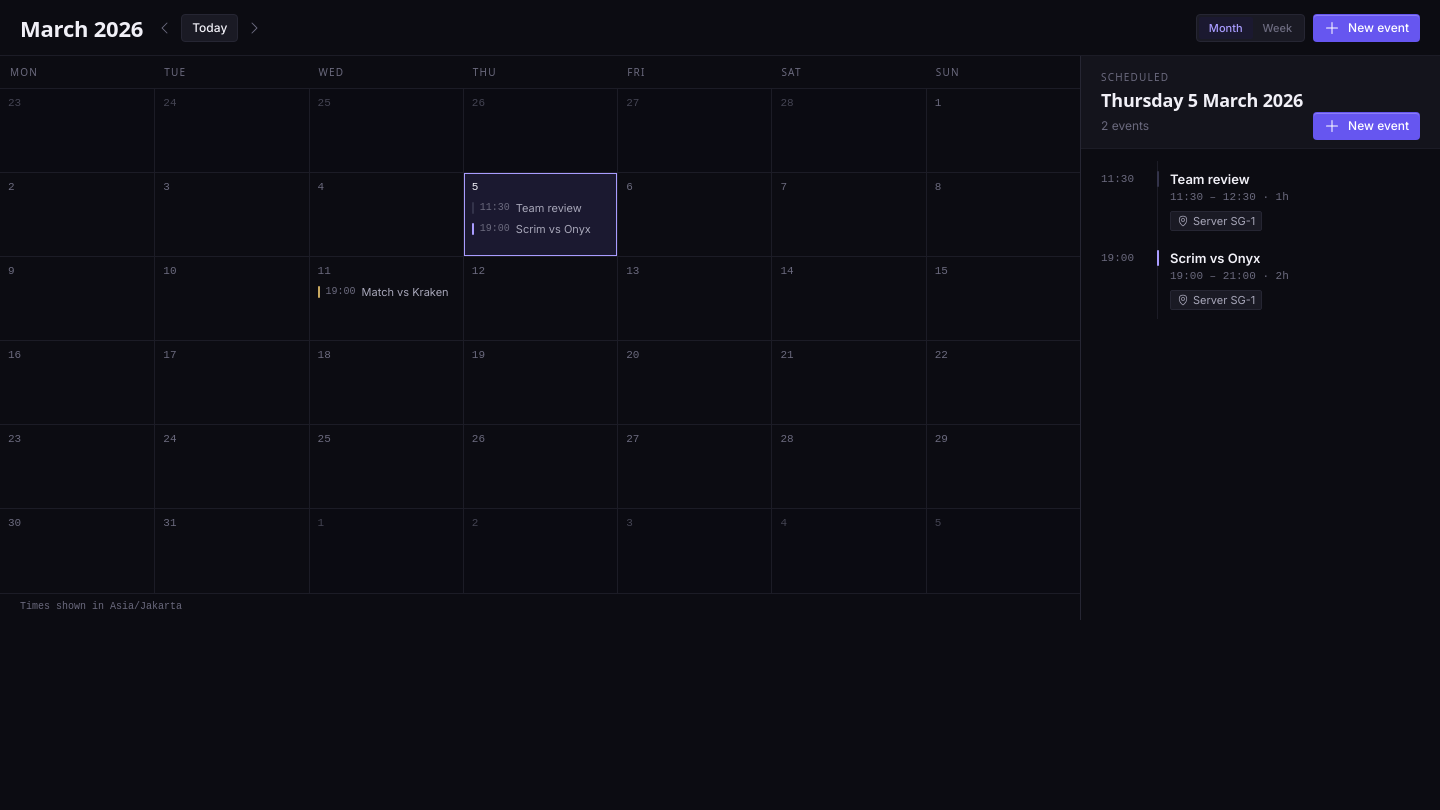
it: an event › opens in the panel, deeper, with the way back
This screenshot has width=1440, height=810.
Click the button "Scrim vs Onyx 19:00 – 21:00 · 2h Server SG-1" at [1288, 280], box [1157, 240, 1420, 319]
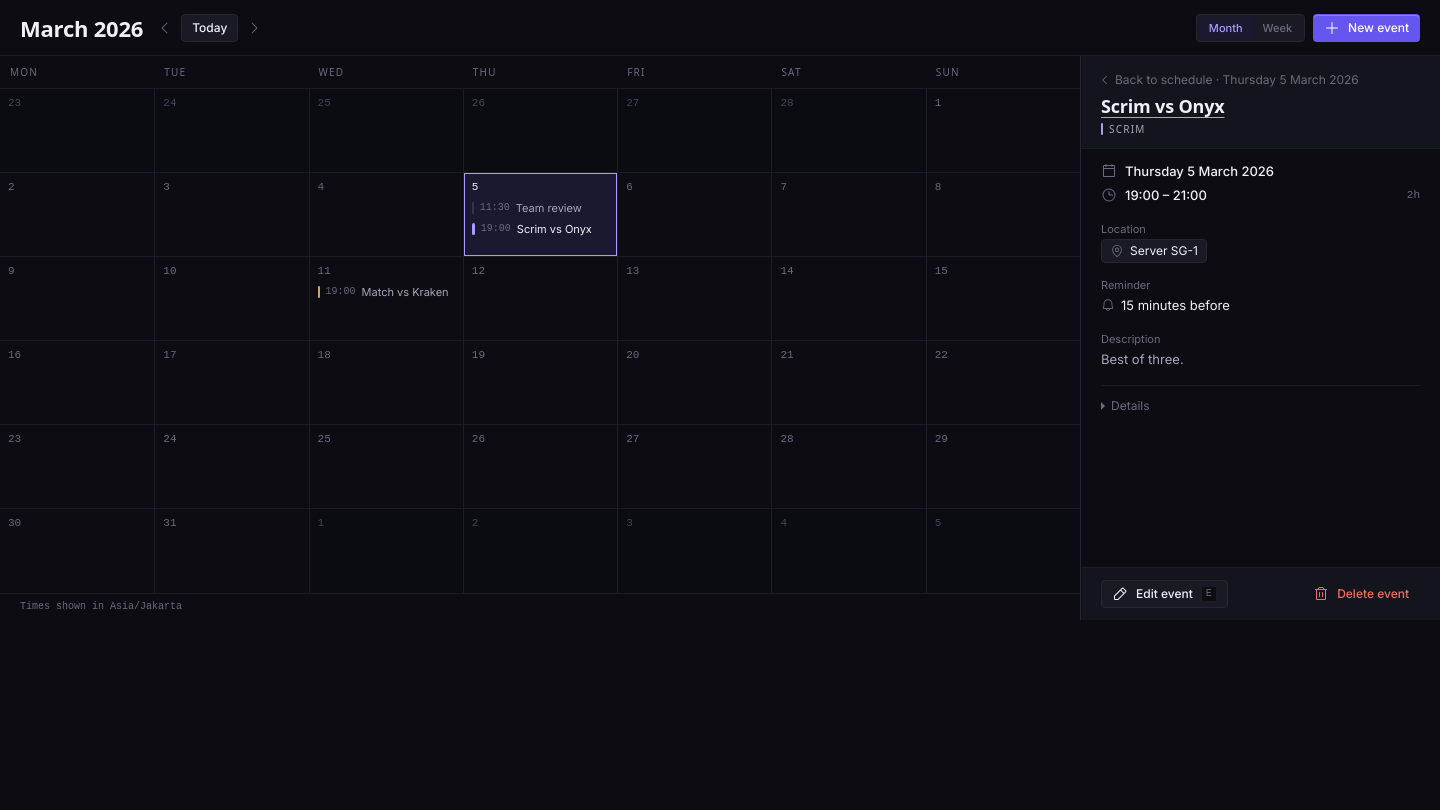
Check: the heading "Scrim vs Onyx" is shown, box [1101, 94, 1224, 118]
Check: the button "Back to schedule · Thursday 5 March 2026" is shown, box [1097, 70, 1365, 90]
Check: the text "15 minutes before" is shown, box [1101, 295, 1230, 315]
